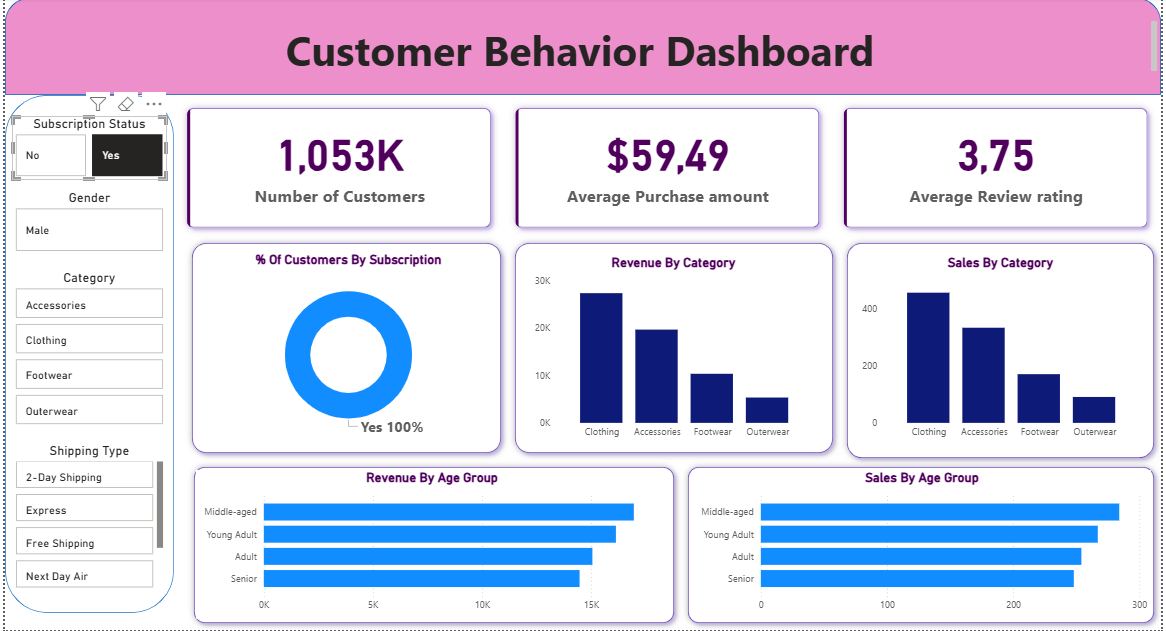

The dashboard page shown, as its layout file describes it:
{"tool":"powerbi","page":{"name":"Page 1","canvas":[1500,820],"ordinal":0},"visuals":[{"type":"cardVisual","fields":{"Data":["Query1.Number of Customers","Query1.Average Purchase amount","Query1.Average Review rating"]},"box":[219.3,125.9,1280.6,189.4],"z":0},{"type":"shape","box":[0,0,1499.9,125.9],"z":1000},{"type":"textbox","box":[0,24.7,1499.9,77.8],"z":2000},{"type":"shape","box":[233.5,308.8,419.1,290.6],"z":3000},{"type":"donutChart","title":"% Of Customers By Subscription","fields":{"Category":["Query1.subscription_status"],"Y":["CountNonNull(Query1.customer_id)"]},"box":[259.5,329.6,372.4,247.8],"z":4000},{"type":"shape","box":[652.6,308.8,430.8,290.6],"z":5000},{"type":"shape","box":[1083.4,308.8,416.5,297.1],"z":6000},{"type":"clusteredColumnChart","title":"Revenue By Category","fields":{"Y":["Sum(Query1.purchase_amount)"],"Category":["Query1.category"]},"box":[682.5,333.4,369.8,247.8],"z":7000},{"type":"clusteredColumnChart","title":"Sales By Category","fields":{"Y":["CountNonNull(Query1.customer_id)"],"Category":["Query1.category"]},"box":[1106.7,333.4,369.8,247.8],"z":8000},{"type":"shape","box":[0,125.9,219.3,672.1],"z":9000},{"type":"advancedSlicerVisual","title":"Subscription Status","fields":{"Values":["Query1.subscription_status"]},"box":[9.1,153.1,201.1,83],"z":10000},{"type":"advancedSlicerVisual","fields":{"Values":["Query1.gender"]},"box":[9.1,249.1,201.1,84.3],"z":10001},{"type":"advancedSlicerVisual","fields":{"Values":["Query1.category"]},"box":[9.1,352.9,201.1,208.9],"z":10002},{"type":"advancedSlicerVisual","fields":{"Values":["Query1.shipping_type"]},"box":[9.1,577.4,201.1,193.3],"z":10003},{"type":"shape","box":[236.1,599.4,640.9,220.6],"z":10004},{"type":"clusteredBarChart","title":"Revenue By Age Group","fields":{"Y":["Sum(Query1.purchase_amount)"],"Category":["Query1.age_group"]},"box":[247.8,612.4,612.4,193.3],"z":10005},{"type":"shape","box":[877.1,599.4,622.8,220.6],"z":10006},{"type":"clusteredBarChart","title":"Sales By Age Group","fields":{"Y":["CountNonNull(Query1.customer_id)"],"Category":["Query1.age_group"]},"box":[892.7,612.4,594.2,193.3],"z":10007}]}

Visuals, with their boxes in screenshot pixels (x1, y1, x2, y2), scaled from the page's 1500x820 canvas onto the 1166x631 screenshot:
cardVisual - Query1.Number of Customers x Query1.Average Purchase amount: pyautogui.locateOnScreen(170, 97, 1165, 243)
shape: pyautogui.locateOnScreen(0, 0, 1165, 97)
textbox: pyautogui.locateOnScreen(0, 19, 1165, 79)
shape: pyautogui.locateOnScreen(182, 238, 507, 461)
"% Of Customers By Subscription" donutChart: pyautogui.locateOnScreen(202, 254, 491, 444)
shape: pyautogui.locateOnScreen(507, 238, 842, 461)
shape: pyautogui.locateOnScreen(842, 238, 1165, 466)
"Revenue By Category" clusteredColumnChart: pyautogui.locateOnScreen(531, 257, 818, 447)
"Sales By Category" clusteredColumnChart: pyautogui.locateOnScreen(860, 257, 1148, 447)
shape: pyautogui.locateOnScreen(0, 97, 170, 614)
"Subscription Status" advancedSlicerVisual: pyautogui.locateOnScreen(7, 118, 163, 182)
advancedSlicerVisual - Query1.gender: pyautogui.locateOnScreen(7, 192, 163, 257)
advancedSlicerVisual - Query1.category: pyautogui.locateOnScreen(7, 272, 163, 432)
advancedSlicerVisual - Query1.shipping_type: pyautogui.locateOnScreen(7, 444, 163, 593)
shape: pyautogui.locateOnScreen(184, 461, 682, 630)
"Revenue By Age Group" clusteredBarChart: pyautogui.locateOnScreen(193, 471, 669, 620)
shape: pyautogui.locateOnScreen(682, 461, 1165, 630)
"Sales By Age Group" clusteredBarChart: pyautogui.locateOnScreen(694, 471, 1156, 620)
